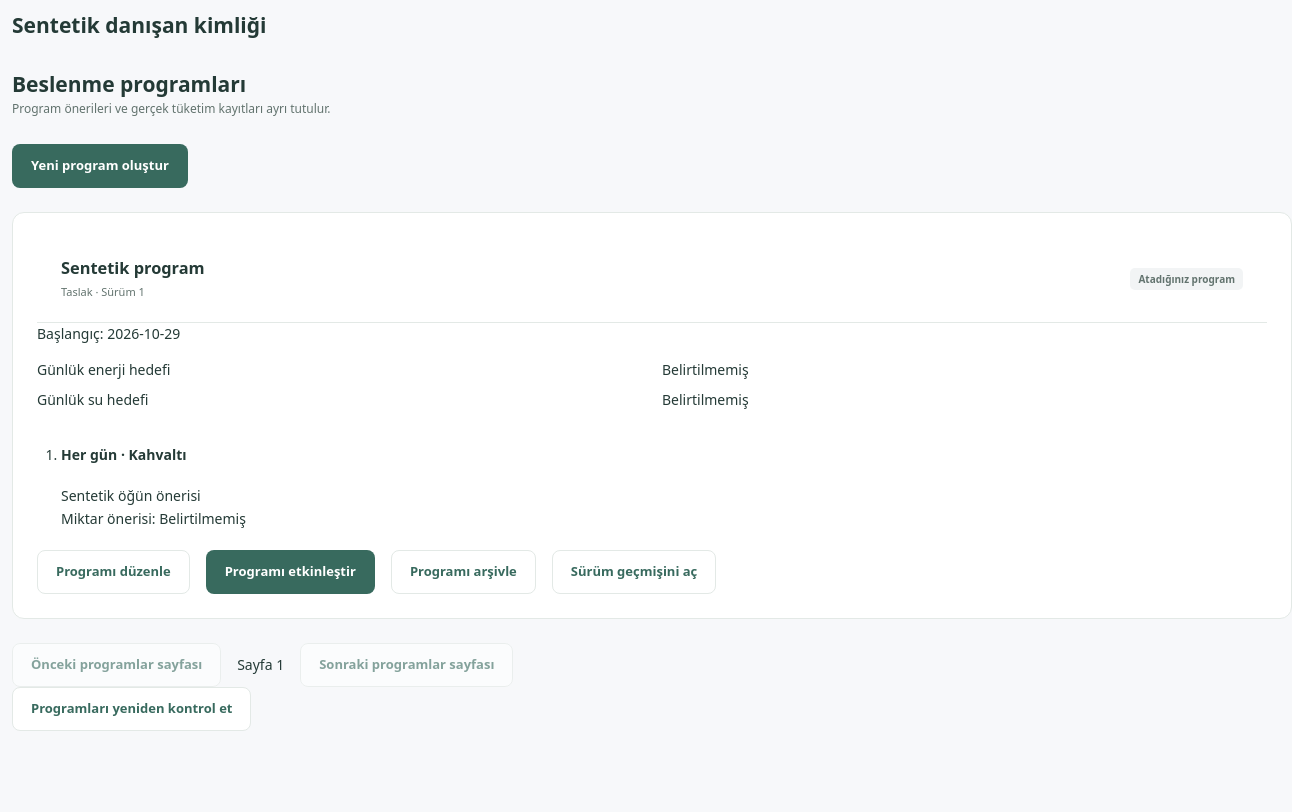
Scenario: nutrition program workspace › preserves the draft and gives no assigned success on a single-active conflict
The width and height of the screenshot is (1292, 812).
Click the button "Programı etkinleştir". click: (290, 572)
box: [206, 550, 375, 594]
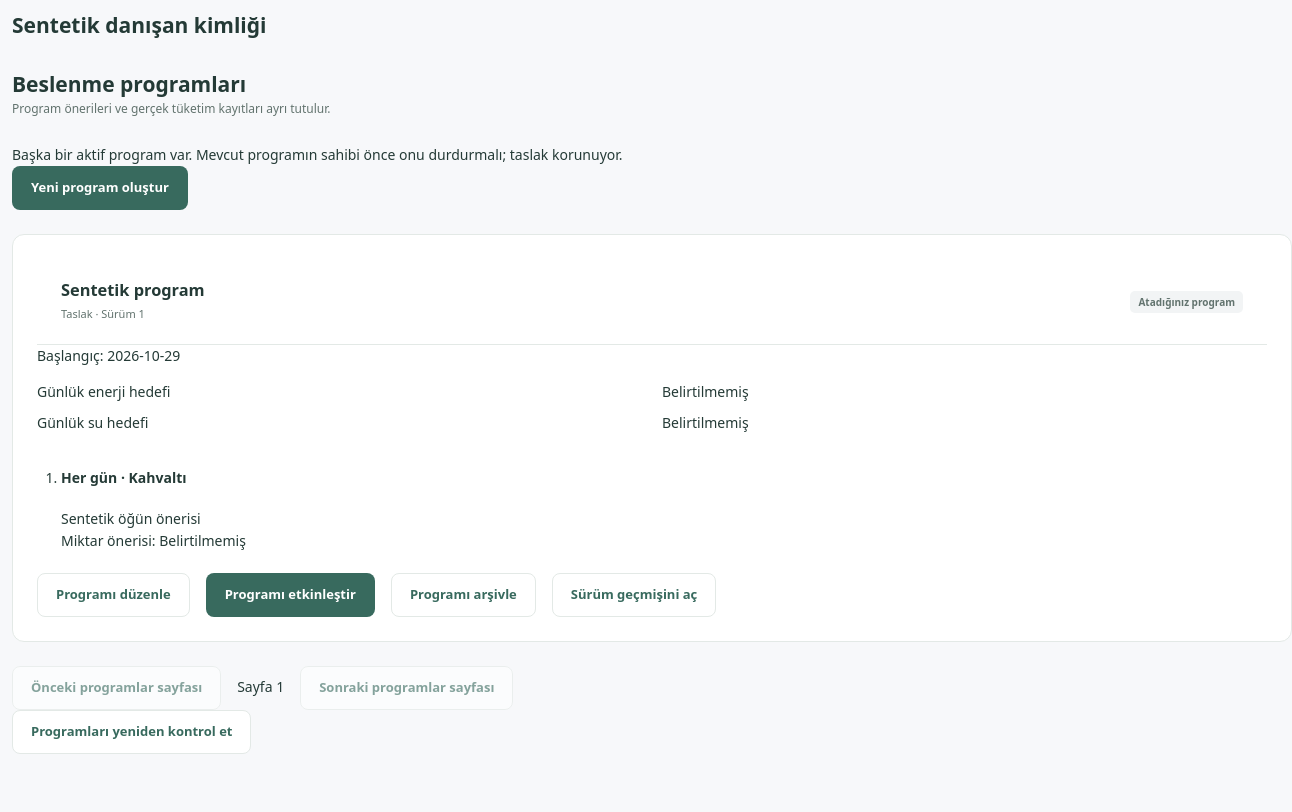
Check: the text "Taslak · Sürüm 1" is shown, box [61, 306, 145, 322]
Check: the message shows "Başka bir aktif program var", box [12, 145, 623, 164]
